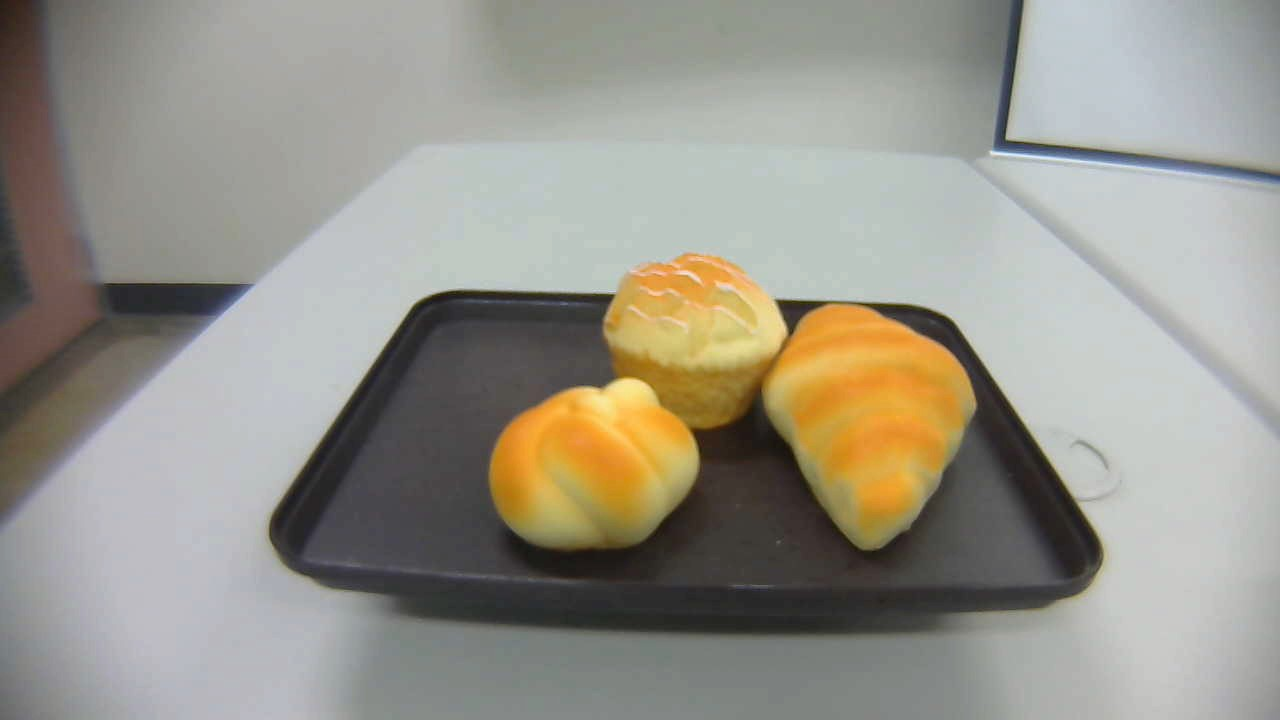croissant: (762, 302, 979, 551)
cupcake: (604, 250, 787, 429)
twist bread: (488, 382, 702, 554)
